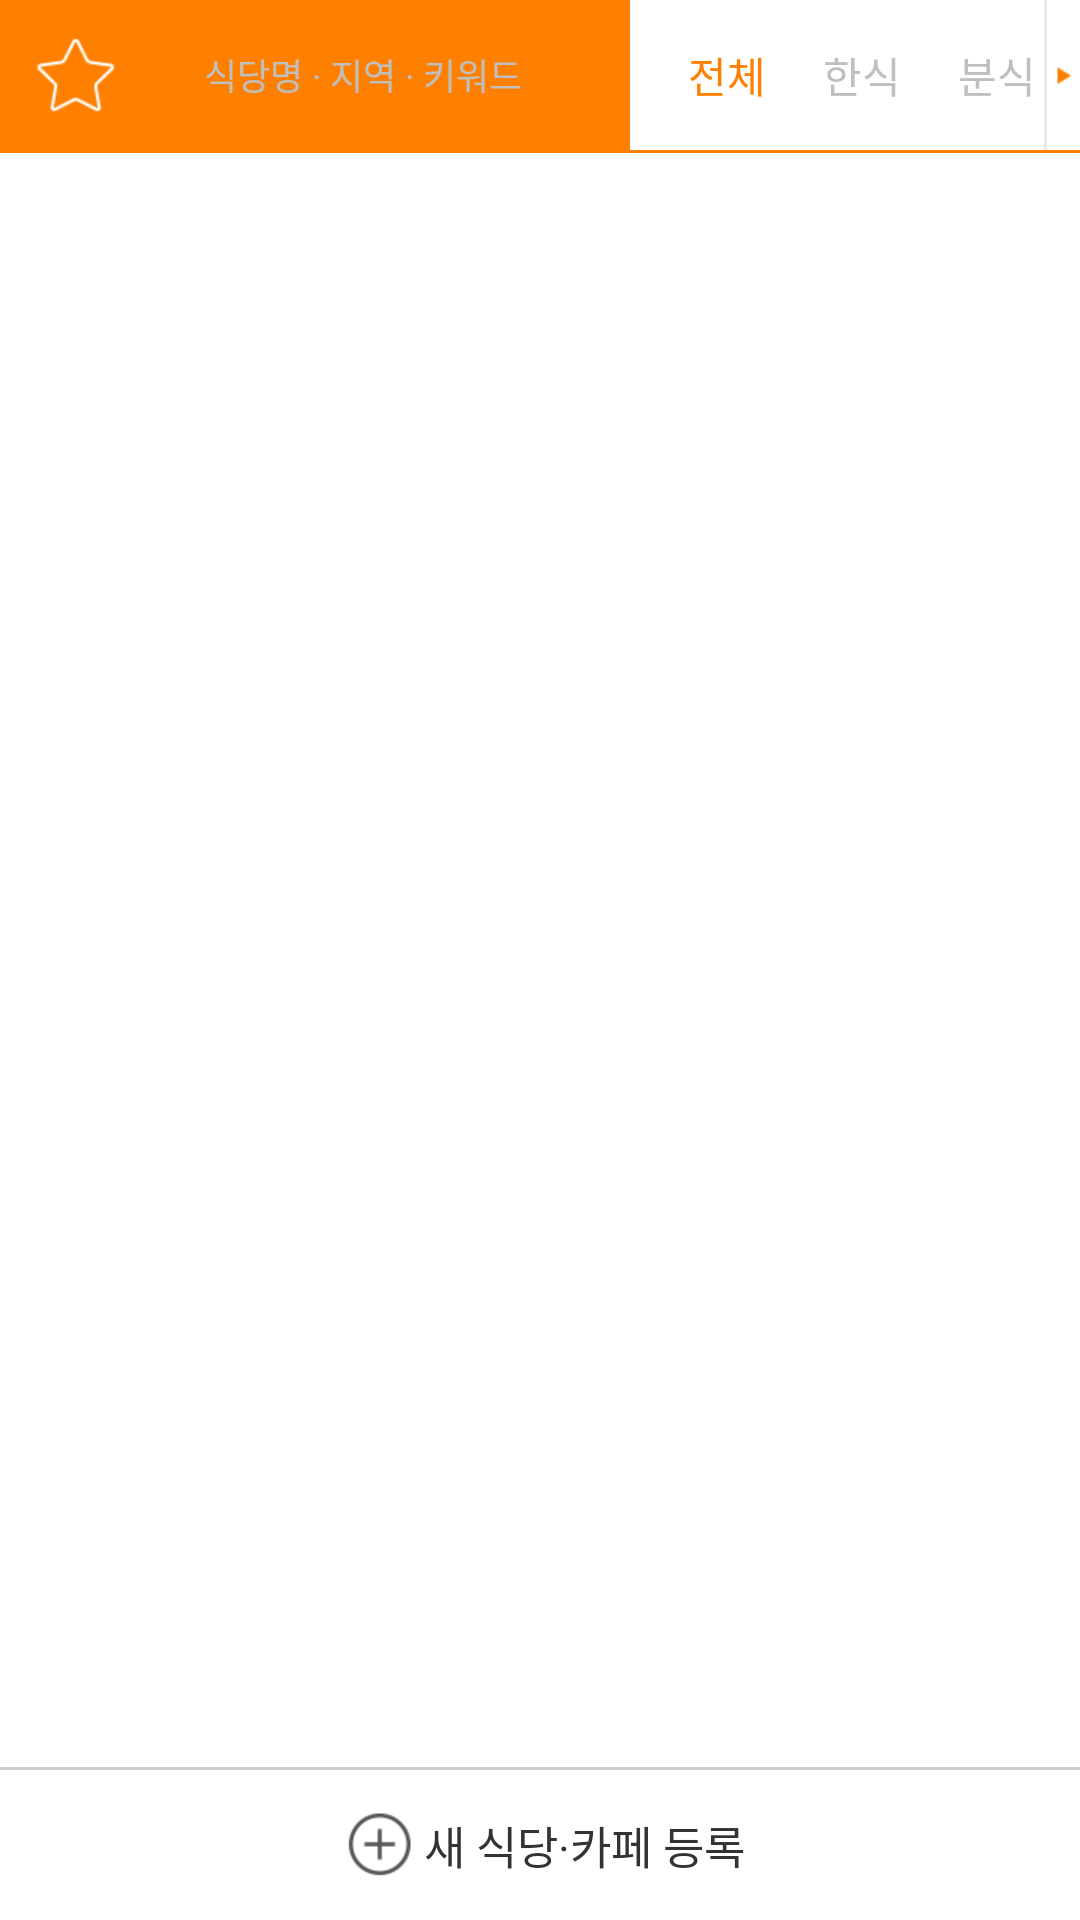

Icons on this 1080 × 1920 Android screen, each with its box as [x1,y1,x2,y2]:
item add: [348,1813,411,1876]
